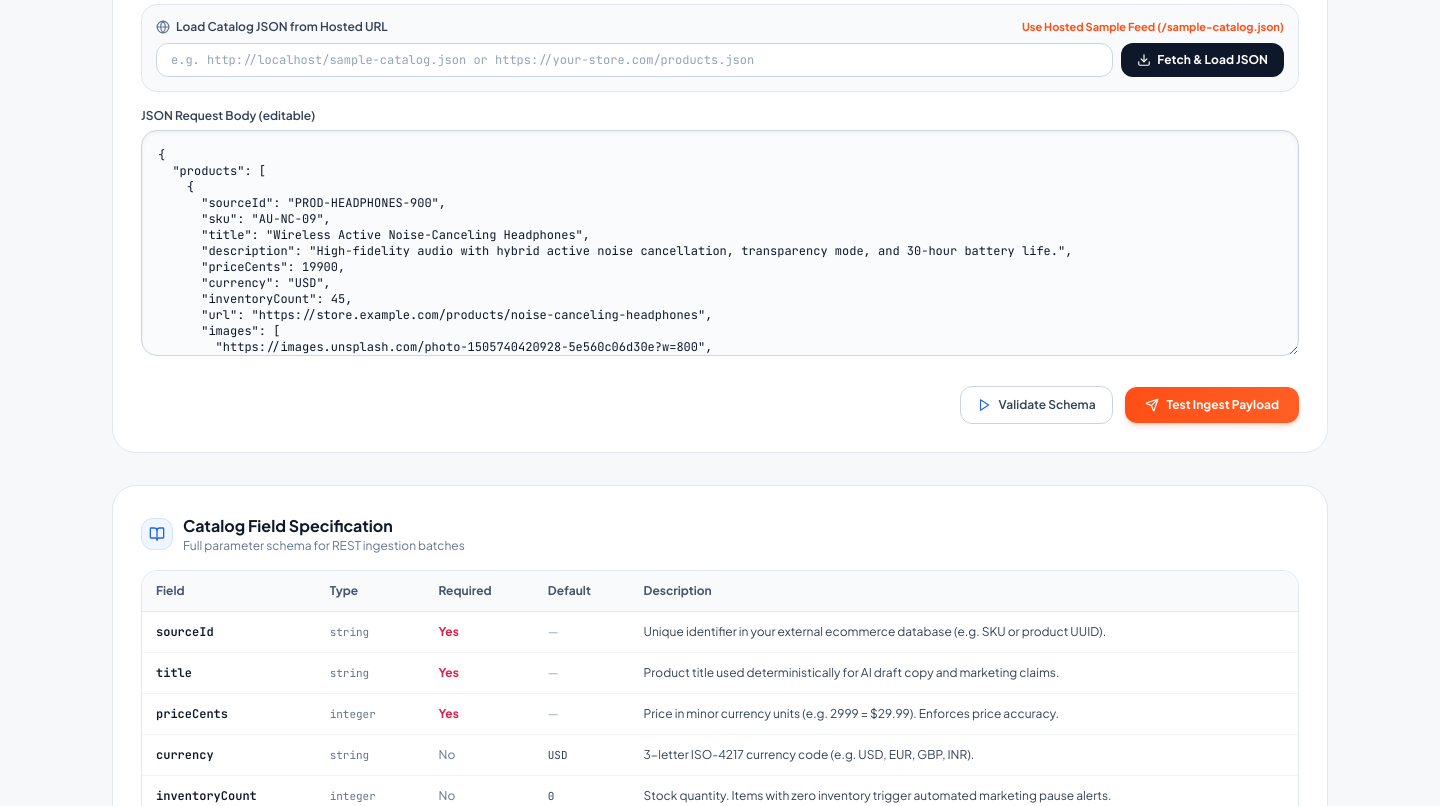
Test: DeveloperIntegrationsPage › renders publicly without authentication and validates payloads via client sandbox
(page scrolled)
# Click "Validate Schema" in public sandbox - does client-side validation without calling backend
Click the button "Validate Schema": click(1036, 405) [960,386,1113,424]
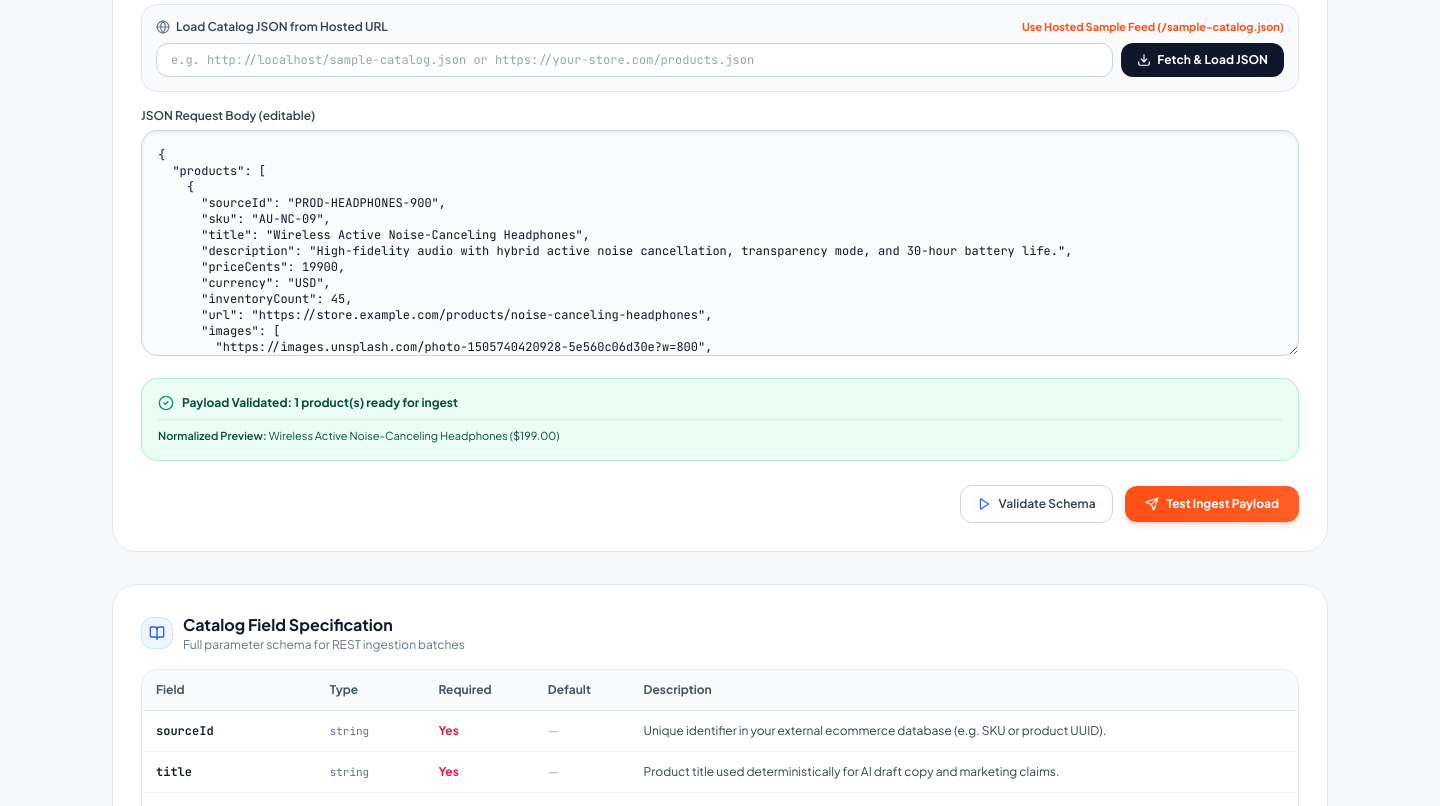
Expected: the text "Payload Validated: 1 product(s) ready for ingest" is shown, [182,395,458,411]
